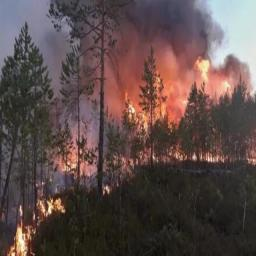Heavy smoke: (23, 0, 241, 193)
Medium fire: (0, 47, 255, 255)
